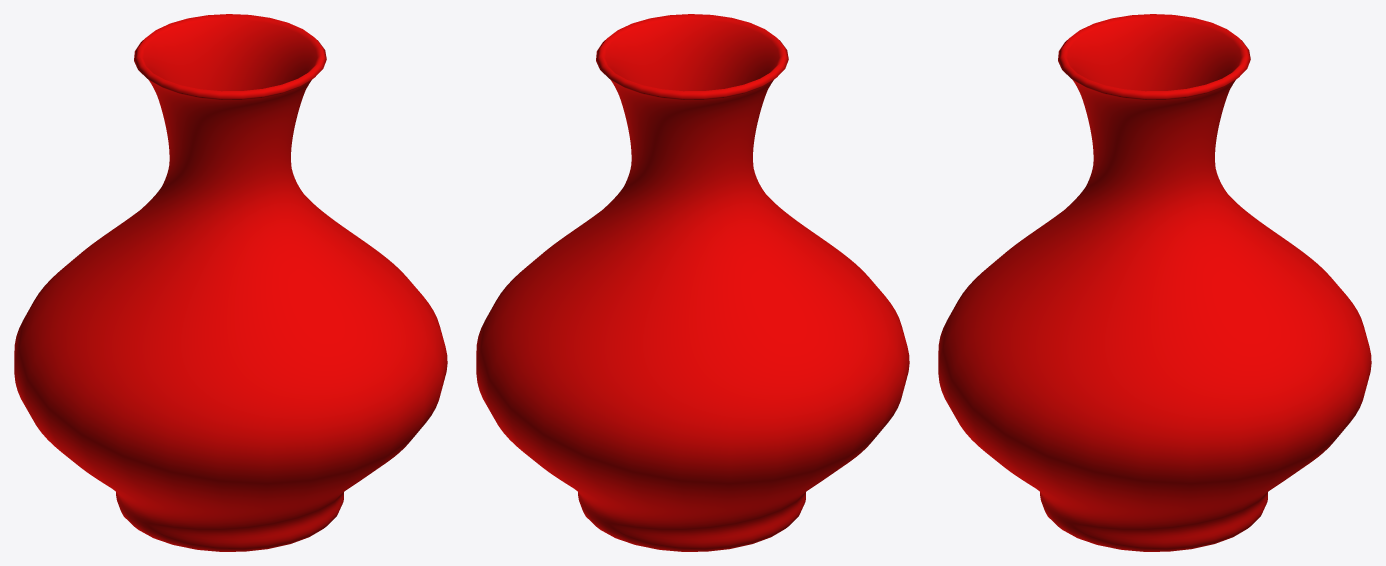
Rendered from BOTTLE.fbx.
The picture shows the model from 3 angles, left to right: view 1: azimuth 30°, elevation 25°; view 2: azimuth 150°, elevation 25°; view 3: azimuth 270°, elevation 25°; orthographic projection.
Visible parts, largest first — view 1: NurbsPath; view 2: NurbsPath; view 3: NurbsPath.
Boxes of the visible parts, <box> form: NurbsPath: <box>14,14,447,551</box>; NurbsPath: <box>476,14,909,551</box>; NurbsPath: <box>938,14,1371,551</box>.
Size of the model in its own units: 286 by 337 by 286.
